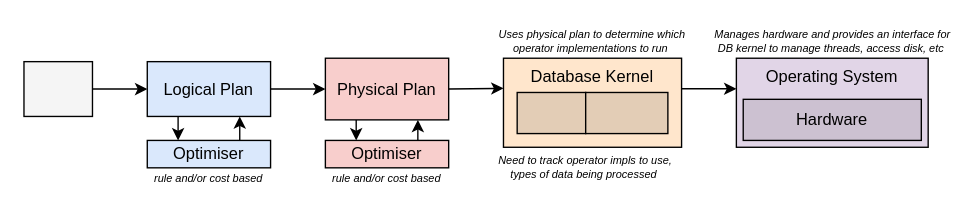
This 975x211 diagram has some shape labels left out. Each missing label, with the centre of its shape:
"Database state" belongs at pixel 626 112.
"Operator Impls" belongs at pixel 551 112.
"SQL" belongs at pixel 57 88.
